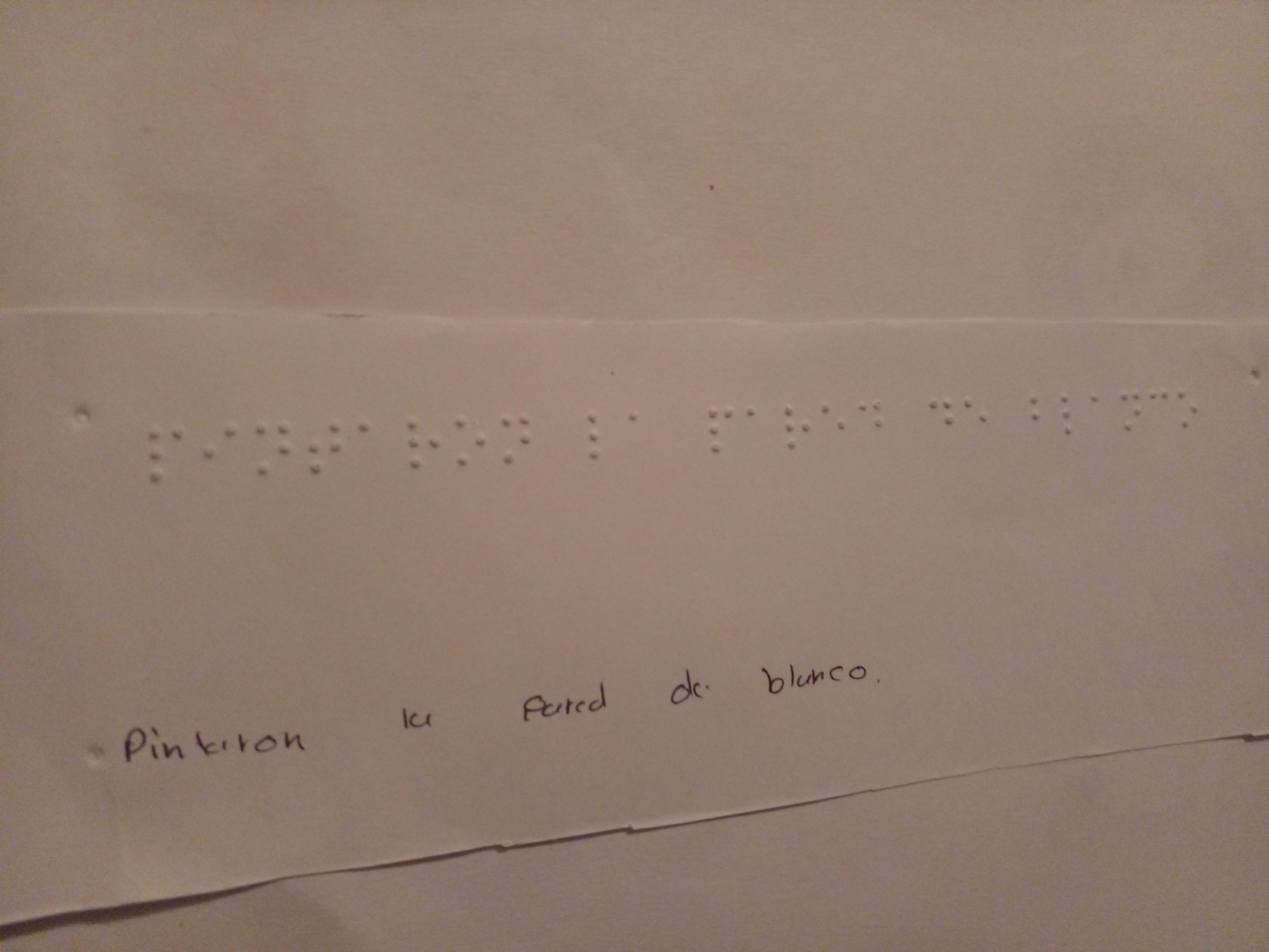a: (350, 408, 387, 471), (617, 398, 651, 440), (1080, 380, 1108, 429), (739, 397, 764, 442)
b: (1019, 383, 1050, 437)
c: (1146, 378, 1173, 429)
d: (928, 389, 959, 443), (857, 390, 885, 443)
e: (815, 398, 857, 443), (964, 395, 996, 439)
i: (198, 409, 245, 480)
l: (573, 408, 615, 473), (1055, 384, 1084, 449)
n: (249, 411, 299, 491), (497, 406, 539, 477), (1112, 381, 1148, 439)
o: (448, 412, 491, 480), (1174, 384, 1207, 439)
p: (133, 423, 197, 493), (705, 398, 742, 466)
r: (404, 411, 446, 479), (782, 400, 813, 463)
t: (304, 401, 349, 490)
